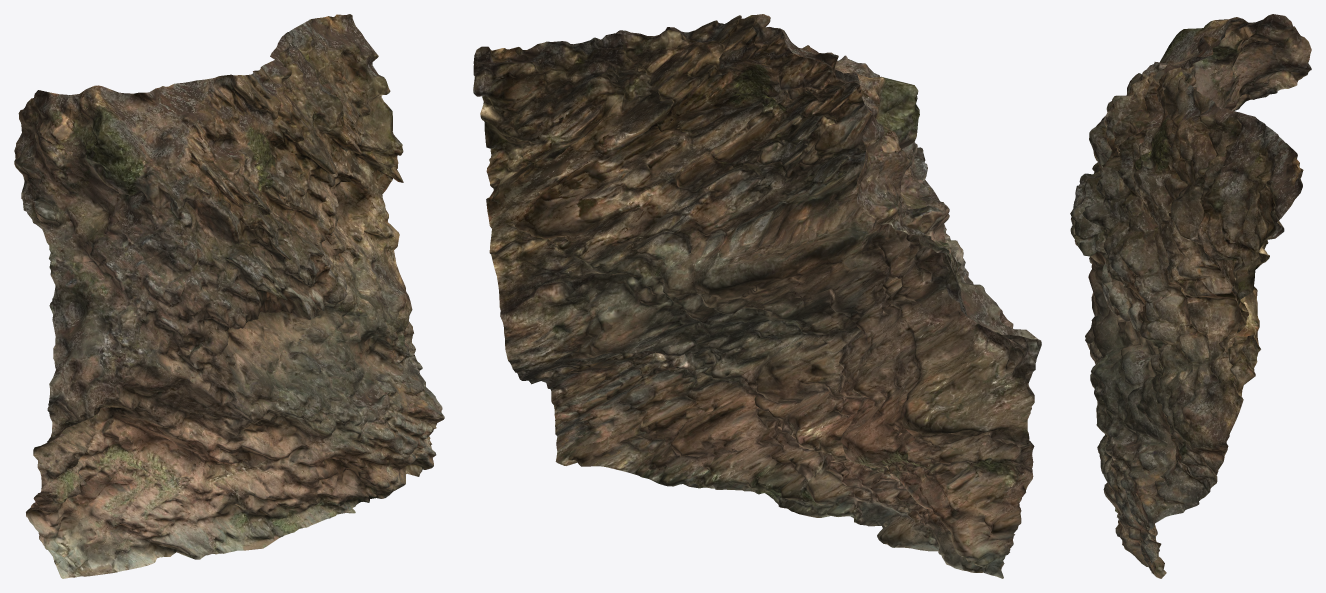
Rendered from mountainside.glb.
The picture shows the model from 3 angles, left to right: view 1: azimuth 30°, elevation 25°; view 2: azimuth 150°, elevation 25°; view 3: azimuth 270°, elevation 25°; orthographic projection. The views are drawn at different scales.
Visible parts, largest first — view 1: mountainside; view 2: mountainside; view 3: mountainside.
Boxes of the visible parts, <box> form: mountainside: <box>14,14,444,578</box>; mountainside: <box>473,14,1041,578</box>; mountainside: <box>1070,14,1311,578</box>.
Size of the model in its own units: 10.21 by 10.52 by 5.25.
1 material, 1 textured.
